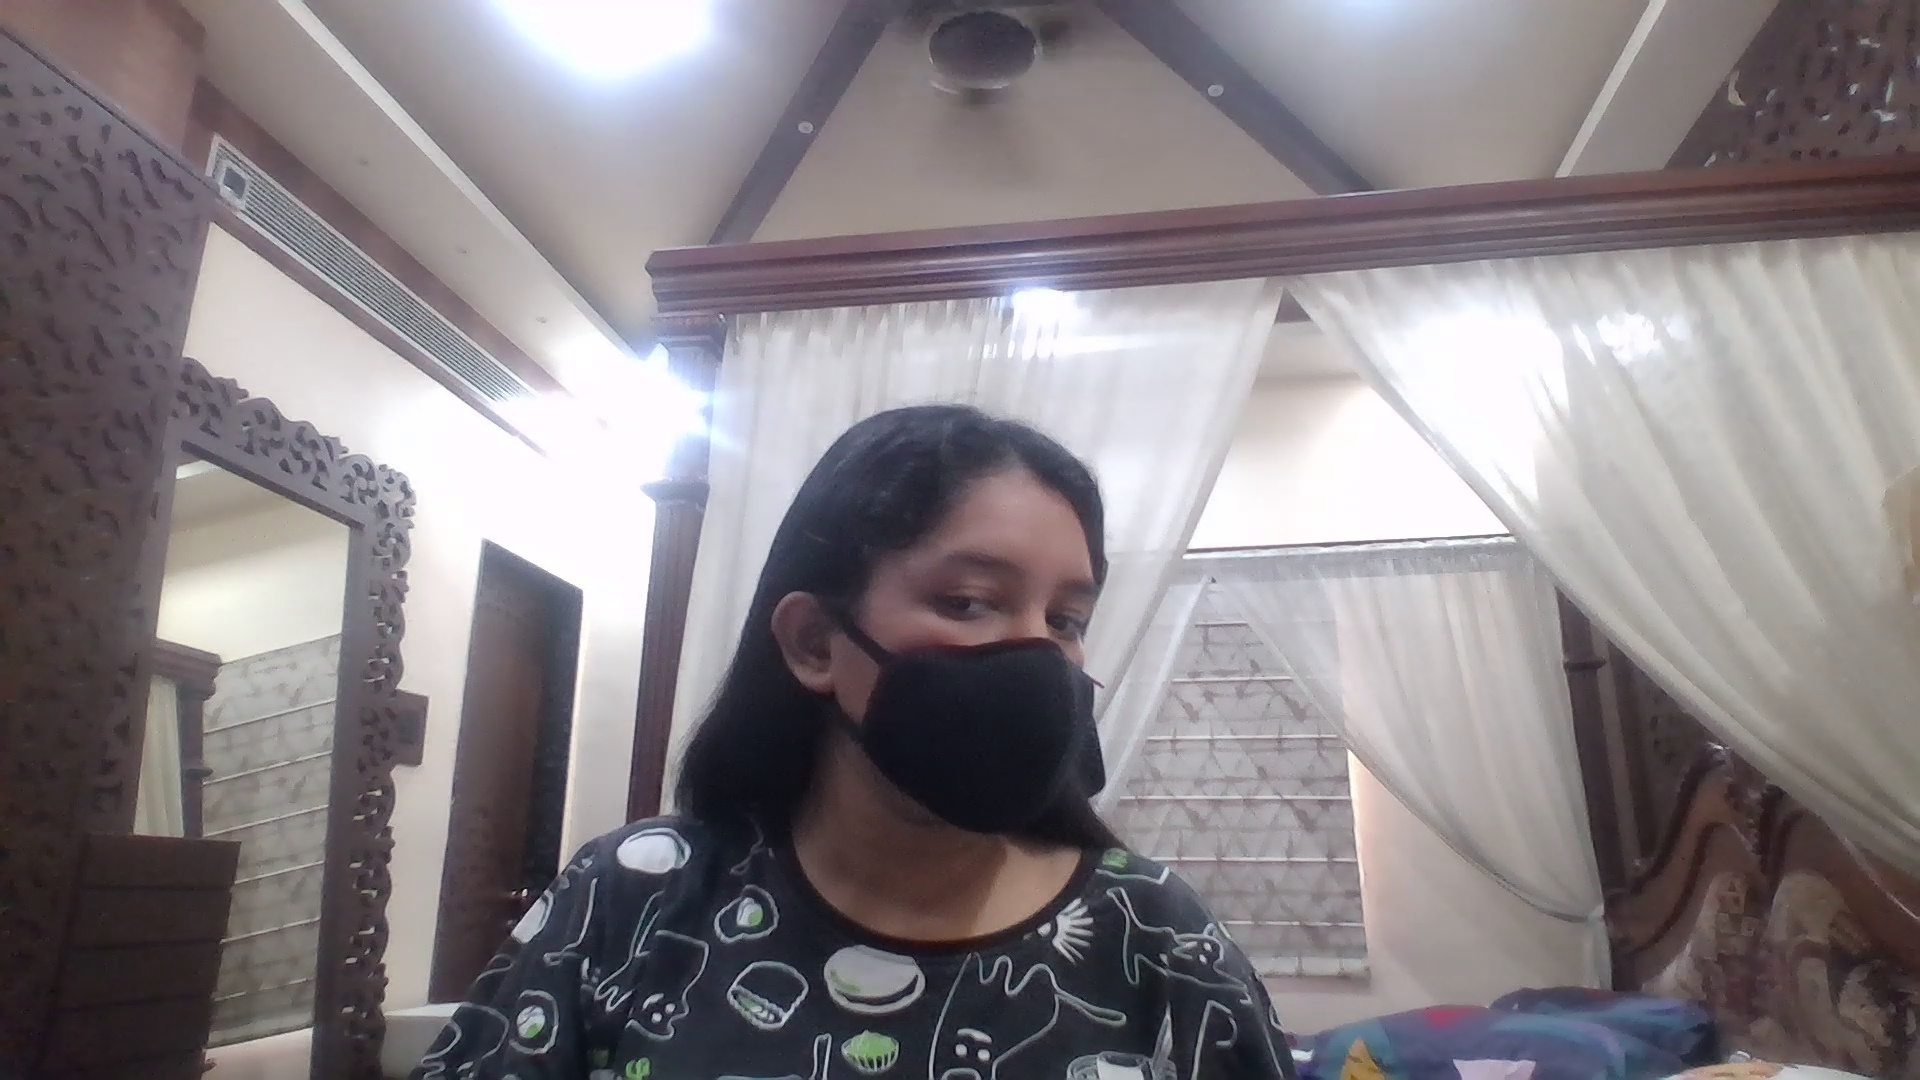Mask: (856, 633, 1093, 847)
